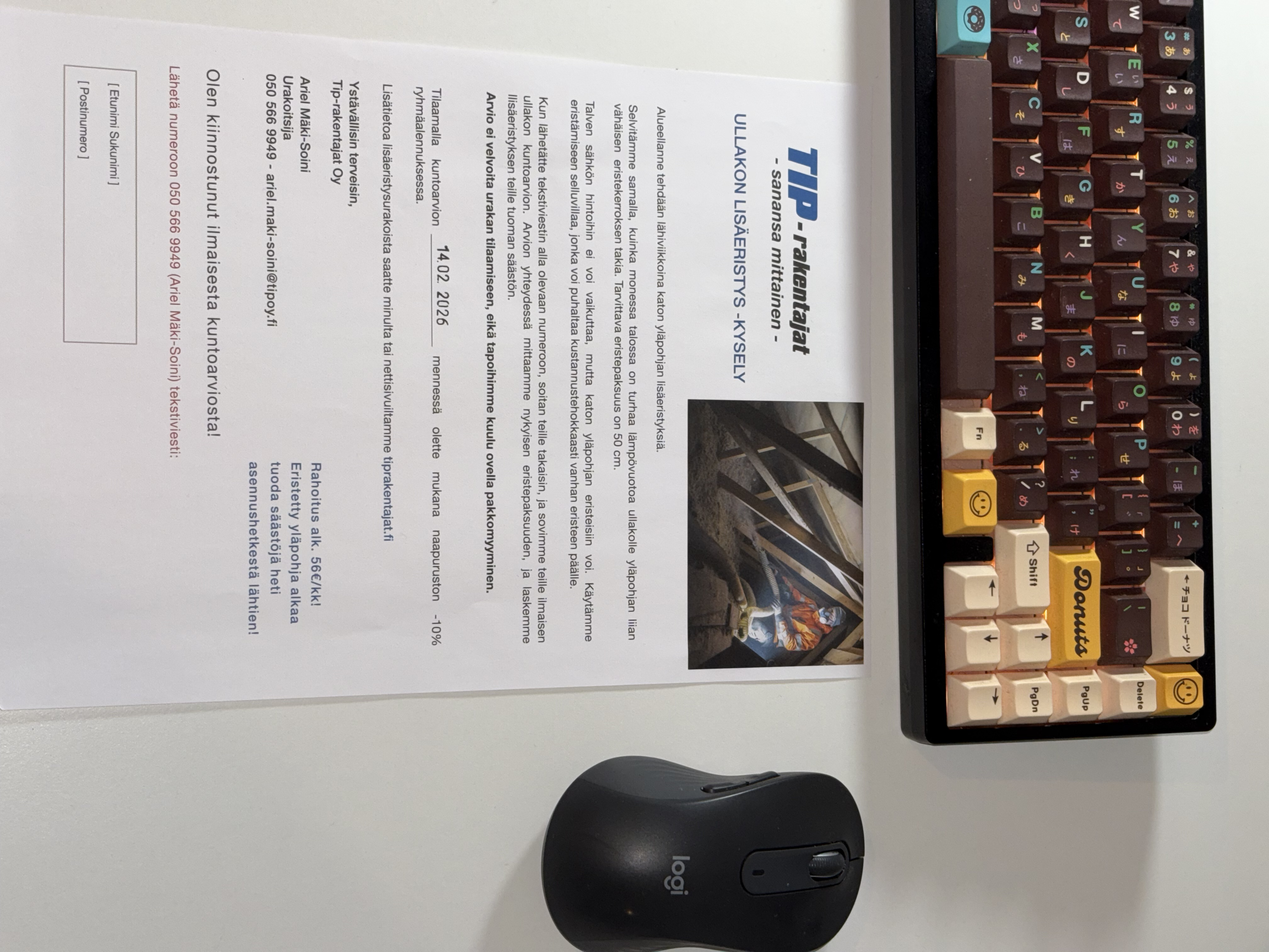paper: (0, 4, 870, 707)
